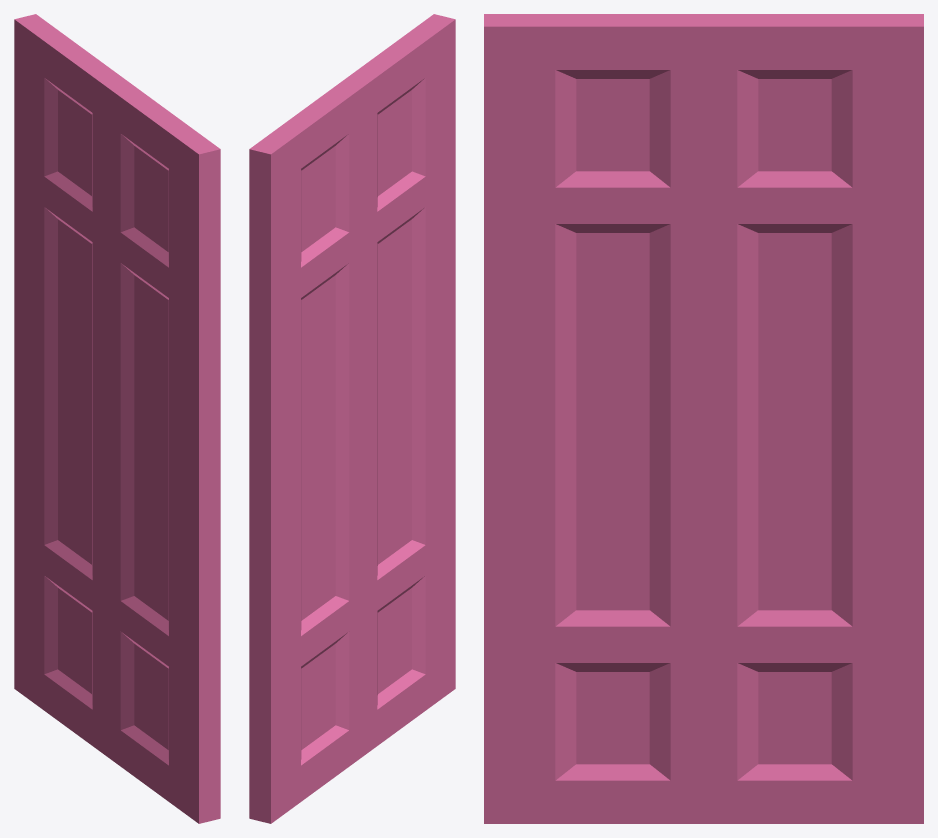
The model's file is DoorAgainAgain.fbx.
3 views of the same model, side by side, from view 1: azimuth 30°, elevation 25°; view 2: azimuth 150°, elevation 25°; view 3: azimuth 270°, elevation 25° (orthographic). The views are drawn at different scales.
Visible parts, largest first — view 1: Door; view 2: Door; view 3: Door.
Part boxes in pixels (x1,y1,x2,y2): Door: (14,14,220,823); Door: (249,14,455,823); Door: (484,14,923,823).
Size of the model in its own units: 3.46 by 102 by 50.95.
